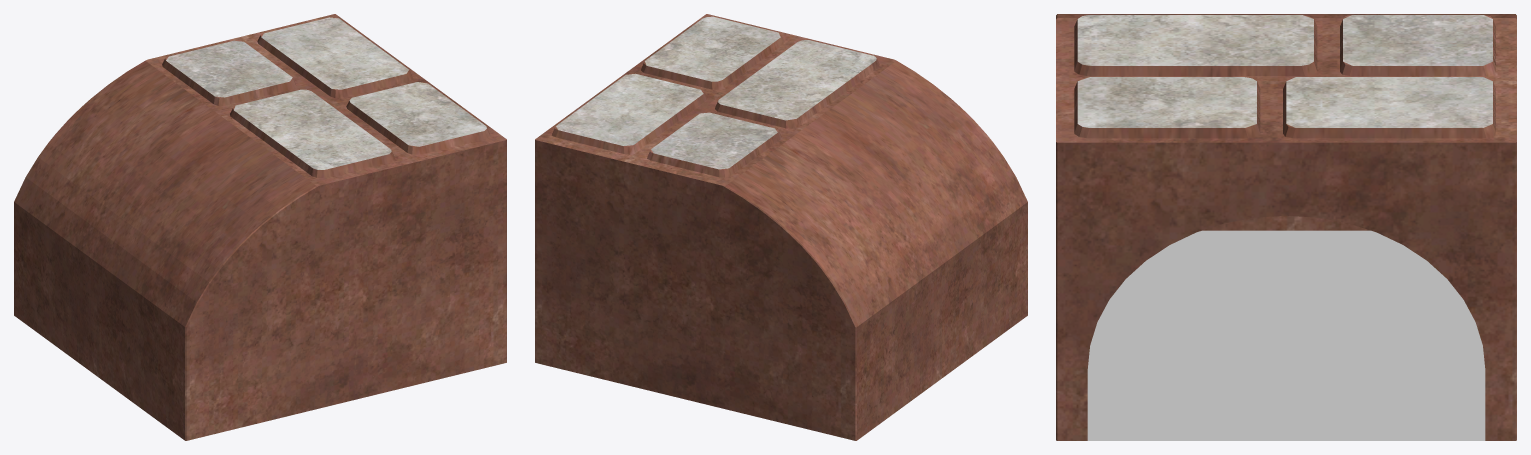
Rendered from thm_nboo_cantina_r11_office_mesh_r11.fbx.
3 views of the same model, side by side, from view 1: azimuth 30°, elevation 25°; view 2: azimuth 150°, elevation 25°; view 3: azimuth 270°, elevation 25° (orthographic). The views are drawn at different scales.
Visible parts, largest first — view 1: mesh_node; view 2: mesh_node; view 3: mesh_node.
Boxes of the visible parts, bbox=[...] form: mesh_node: bbox=[14, 14, 506, 440]; mesh_node: bbox=[535, 14, 1027, 440]; mesh_node: bbox=[1056, 14, 1516, 440].
Size of the model in its own units: 7.56 by 5.15 by 7.
